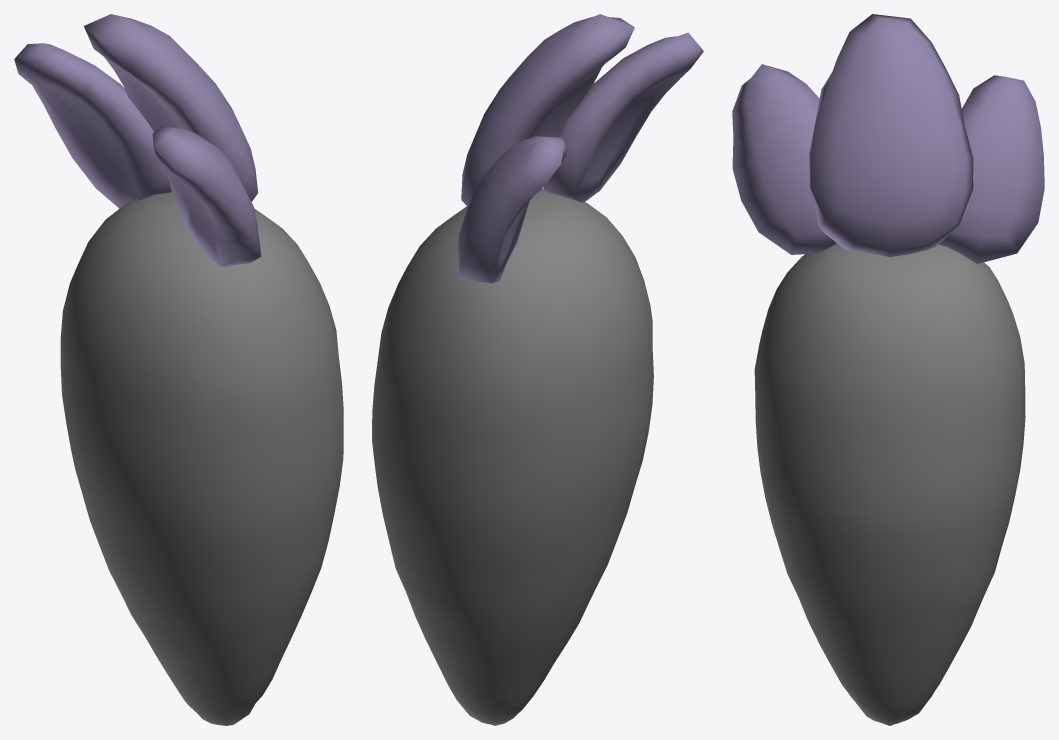
The model's file is Carrot_L.fbx.
The picture shows the model from 3 angles, left to right: view 1: azimuth 30°, elevation 25°; view 2: azimuth 150°, elevation 25°; view 3: azimuth 270°, elevation 25°; orthographic projection. The views are drawn at different scales.
Visible parts, largest first — view 1: Carrot_L, Leaves_L; view 2: Carrot_L, Leaves_L; view 3: Carrot_L, Leaves_L.
Boxes of the visible parts, x1,y1,x2,y2 form: Carrot_L: (60,192,343,725); Leaves_L: (14,14,261,266); Carrot_L: (372,188,653,725); Leaves_L: (457,14,703,283); Carrot_L: (754,243,1025,725); Leaves_L: (732,14,1044,263).
Bounding box in the file's own units: 17.25 × 50.03 × 21.44.
